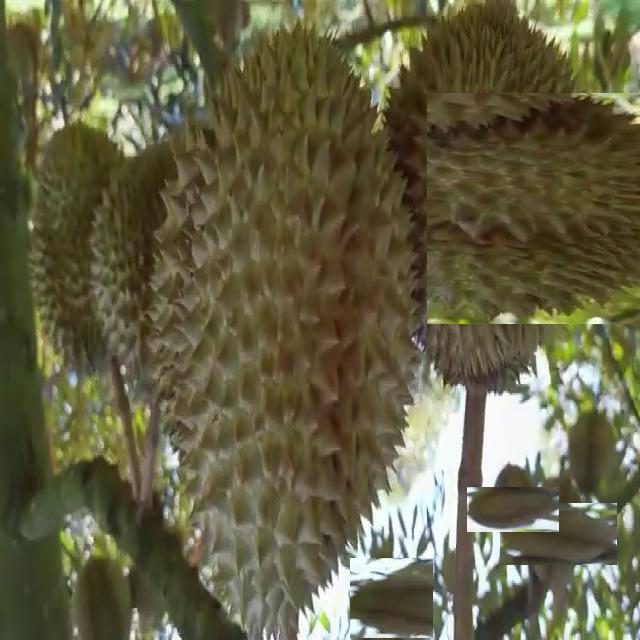durian: (146, 15, 426, 634), (338, 53, 640, 365), (30, 105, 138, 384), (89, 138, 198, 410), (514, 490, 603, 579), (351, 558, 432, 640), (73, 550, 134, 640), (566, 407, 617, 501), (478, 476, 548, 544)
